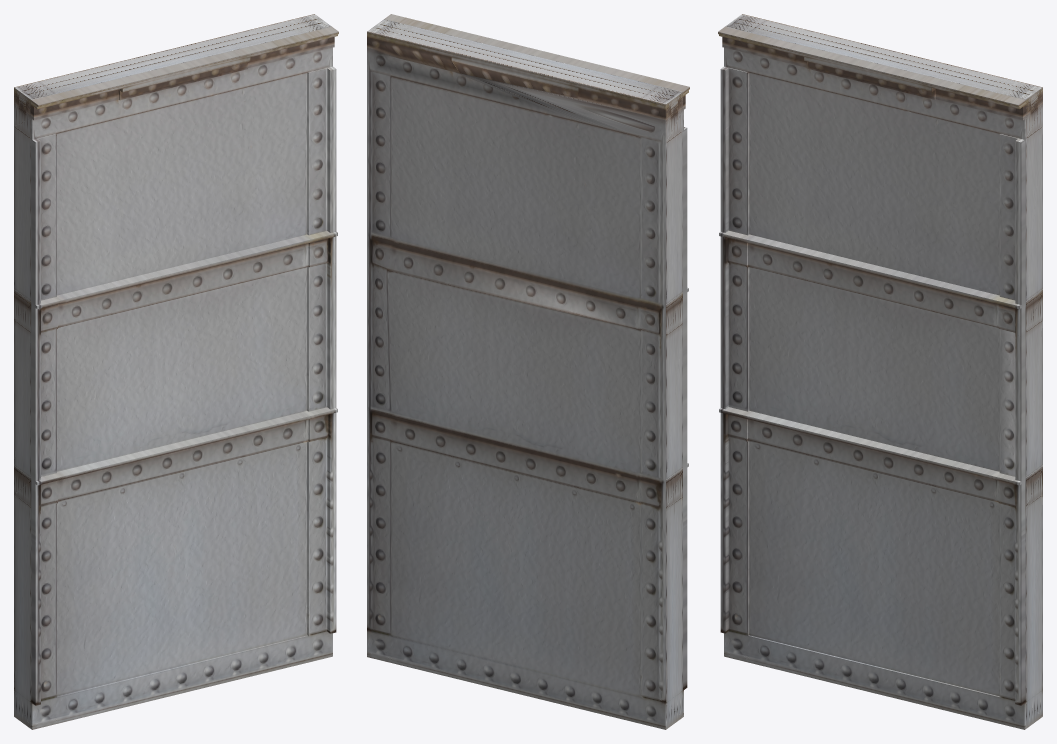
Rendered from WallExport.FBX.
The picture shows the model from 3 angles, left to right: view 1: azimuth 30°, elevation 25°; view 2: azimuth 150°, elevation 25°; view 3: azimuth 330°, elevation 25°; orthographic projection.
Visible parts, largest first — view 1: Box001; view 2: Box001; view 3: Box001.
Part boxes in pixels (box(x1,y1,x2,y2)): Box001: box(14, 14, 338, 729); Box001: box(367, 14, 689, 729); Box001: box(718, 14, 1042, 729).
Size of the model in its own units: 200 by 32.56 by 400.
Materials: 1 (1 with a texture image).
